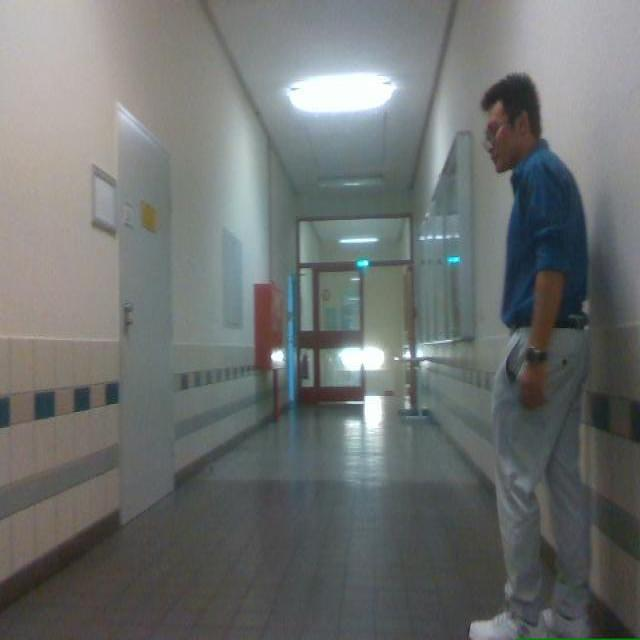humans: (469, 74, 589, 639)
